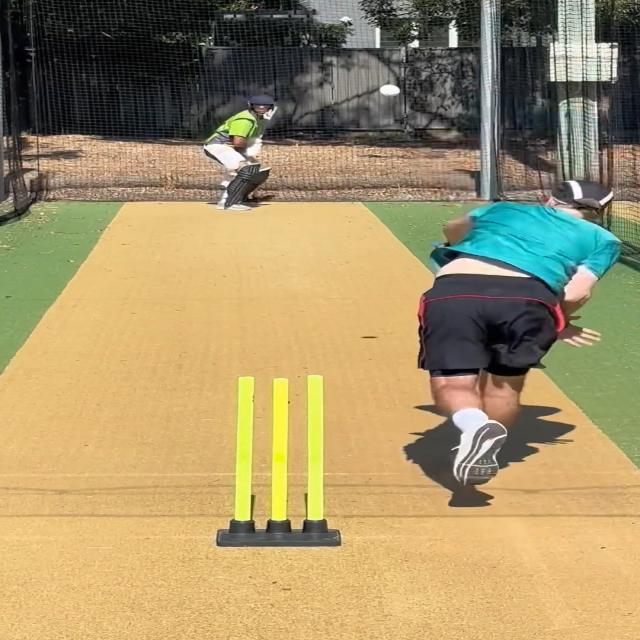ball: (377, 83, 402, 99)
stump: (214, 374, 342, 548)
